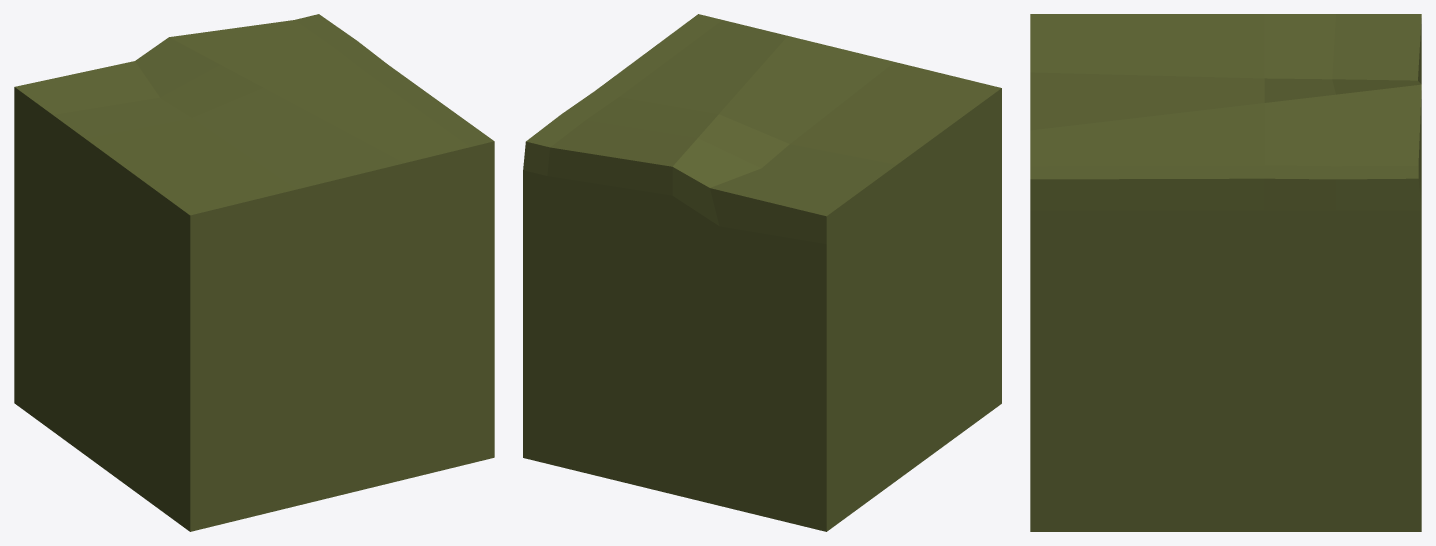
File: grass.gltf
3 renders of one model, left to right at view 1: azimuth 30°, elevation 25°; view 2: azimuth 150°, elevation 25°; view 3: azimuth 270°, elevation 25°, orthographic. The views are drawn at different scales.
Visible parts, largest first — view 1: ground_stone_.001; view 2: ground_stone_.001; view 3: ground_stone_.001.
Part boxes in pixels (box(x1,y1,x2,y2)): ground_stone_.001: box(14, 14, 494, 531); ground_stone_.001: box(523, 14, 1001, 531); ground_stone_.001: box(1030, 14, 1421, 531).
Size of the model in its own units: 2 by 2.06 by 2.
1 material, 1 textured.
